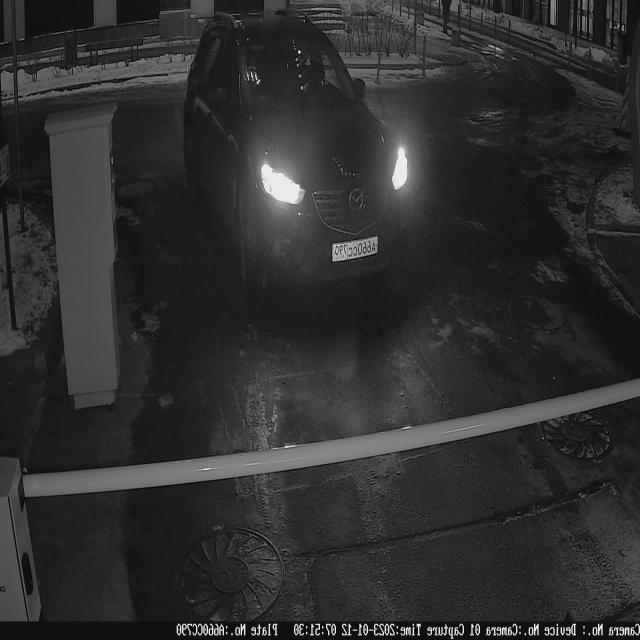car-plate-numbers: (330, 230, 383, 272)
